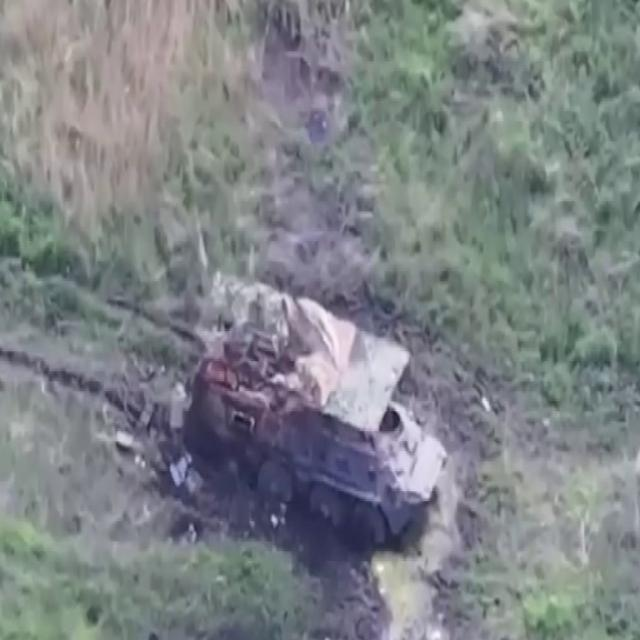APC-IFV: (189, 276, 447, 548)
